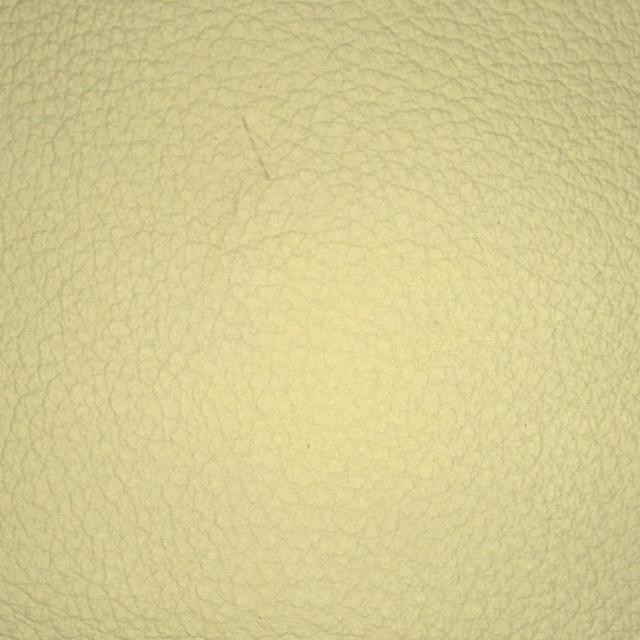Scratch: (154, 77, 356, 240)
